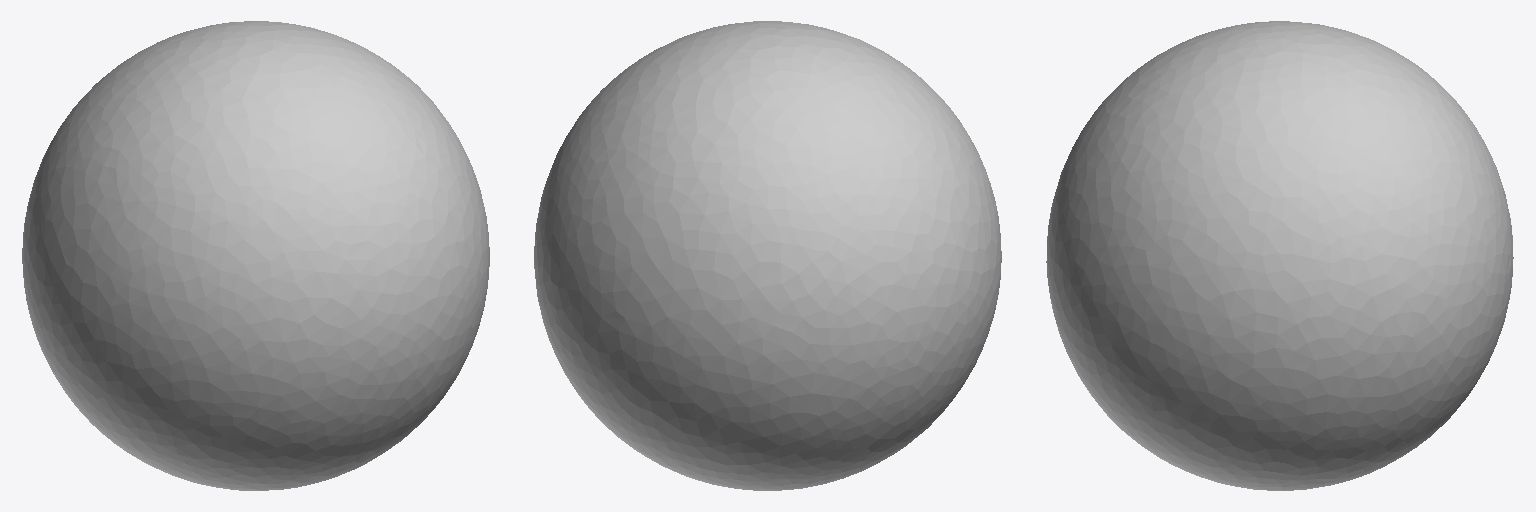
File: earth.obj
3 views of the same model, side by side, from view 1: azimuth 30°, elevation 25°; view 2: azimuth 150°, elevation 25°; view 3: azimuth 270°, elevation 25° (orthographic).
Parts seen in each view (by area): view 1: Earth; view 2: Earth; view 3: Earth.
Boxes of the visible parts, x1,y1,x2,y2 form: Earth: [22, 21, 489, 490]; Earth: [534, 21, 1001, 490]; Earth: [1046, 21, 1513, 490].
Bounding box in the file's own units: 1.93 × 1.94 × 1.93.